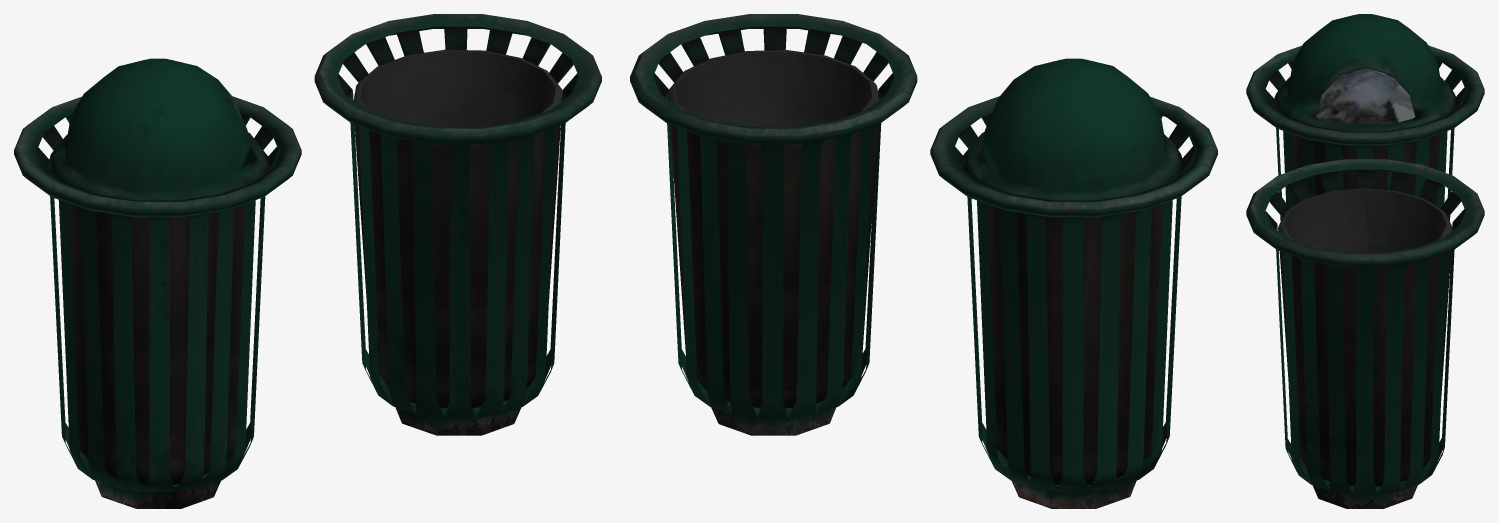
Rendered from trashcans.glb.
The picture shows the model from 3 angles, left to right: view 1: azimuth 30°, elevation 25°; view 2: azimuth 150°, elevation 25°; view 3: azimuth 270°, elevation 25°; orthographic projection. The views are drawn at different scales.
Parts seen in each view (by area): view 1: Object_4, Object_6; view 2: Object_4, Object_6; view 3: Object_6, Object_4.
Part boxes in pixels (box(x1,y1,x2,y2)): Object_4: box(14, 58, 301, 508); Object_6: box(314, 14, 601, 435); Object_4: box(930, 58, 1217, 508); Object_6: box(630, 14, 917, 435); Object_6: box(1246, 159, 1484, 508); Object_4: box(1246, 14, 1484, 221).
Size of the model in its own units: 1.43 by 1.04 by 0.6508.
Materials: 1 (1 with a texture image).
